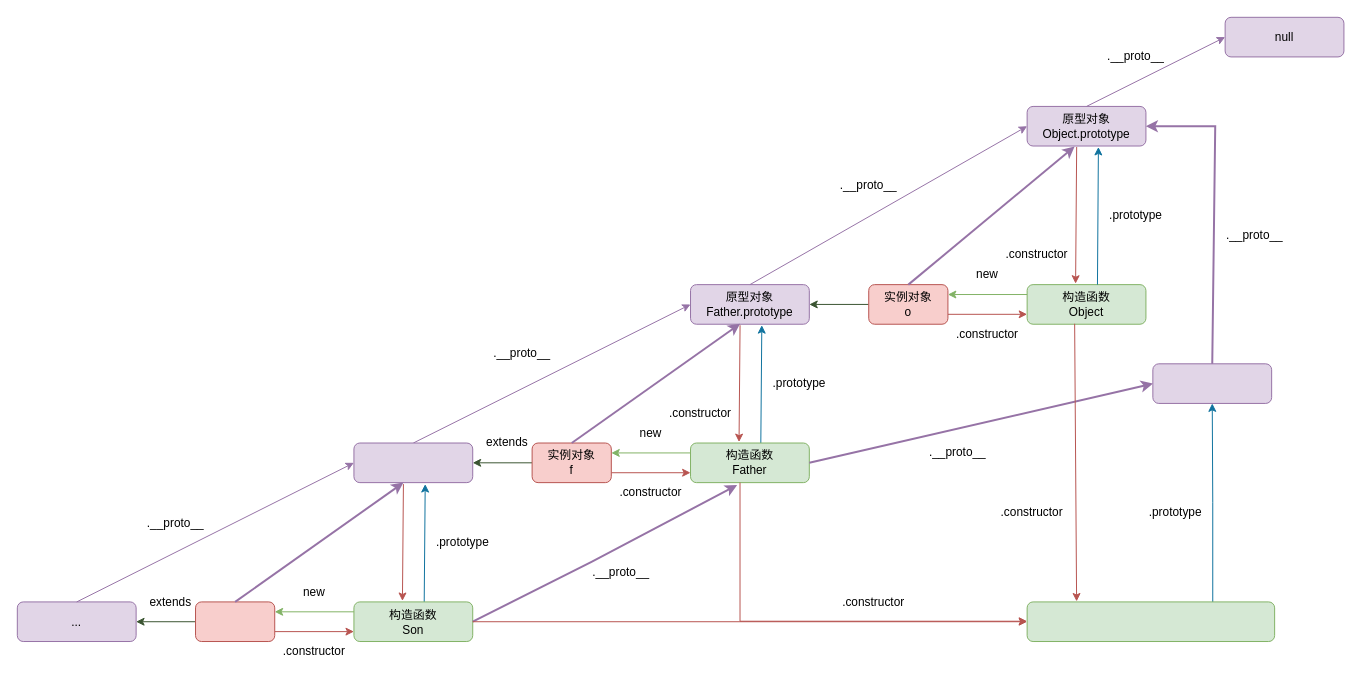
This 1361x678 diagram has some shape labels left out. The shapes that lost their labels are listed below. From the top down, each one's box as (x1, y1, x2, y2) in pixels, then its label:
(1152, 363, 1272, 403): 原型对象 Function.prototype
(353, 442, 473, 483): 原型对象 Son.prototype
(195, 601, 275, 642): 实例对象 s
(1026, 601, 1275, 642): 构造函数 Function
